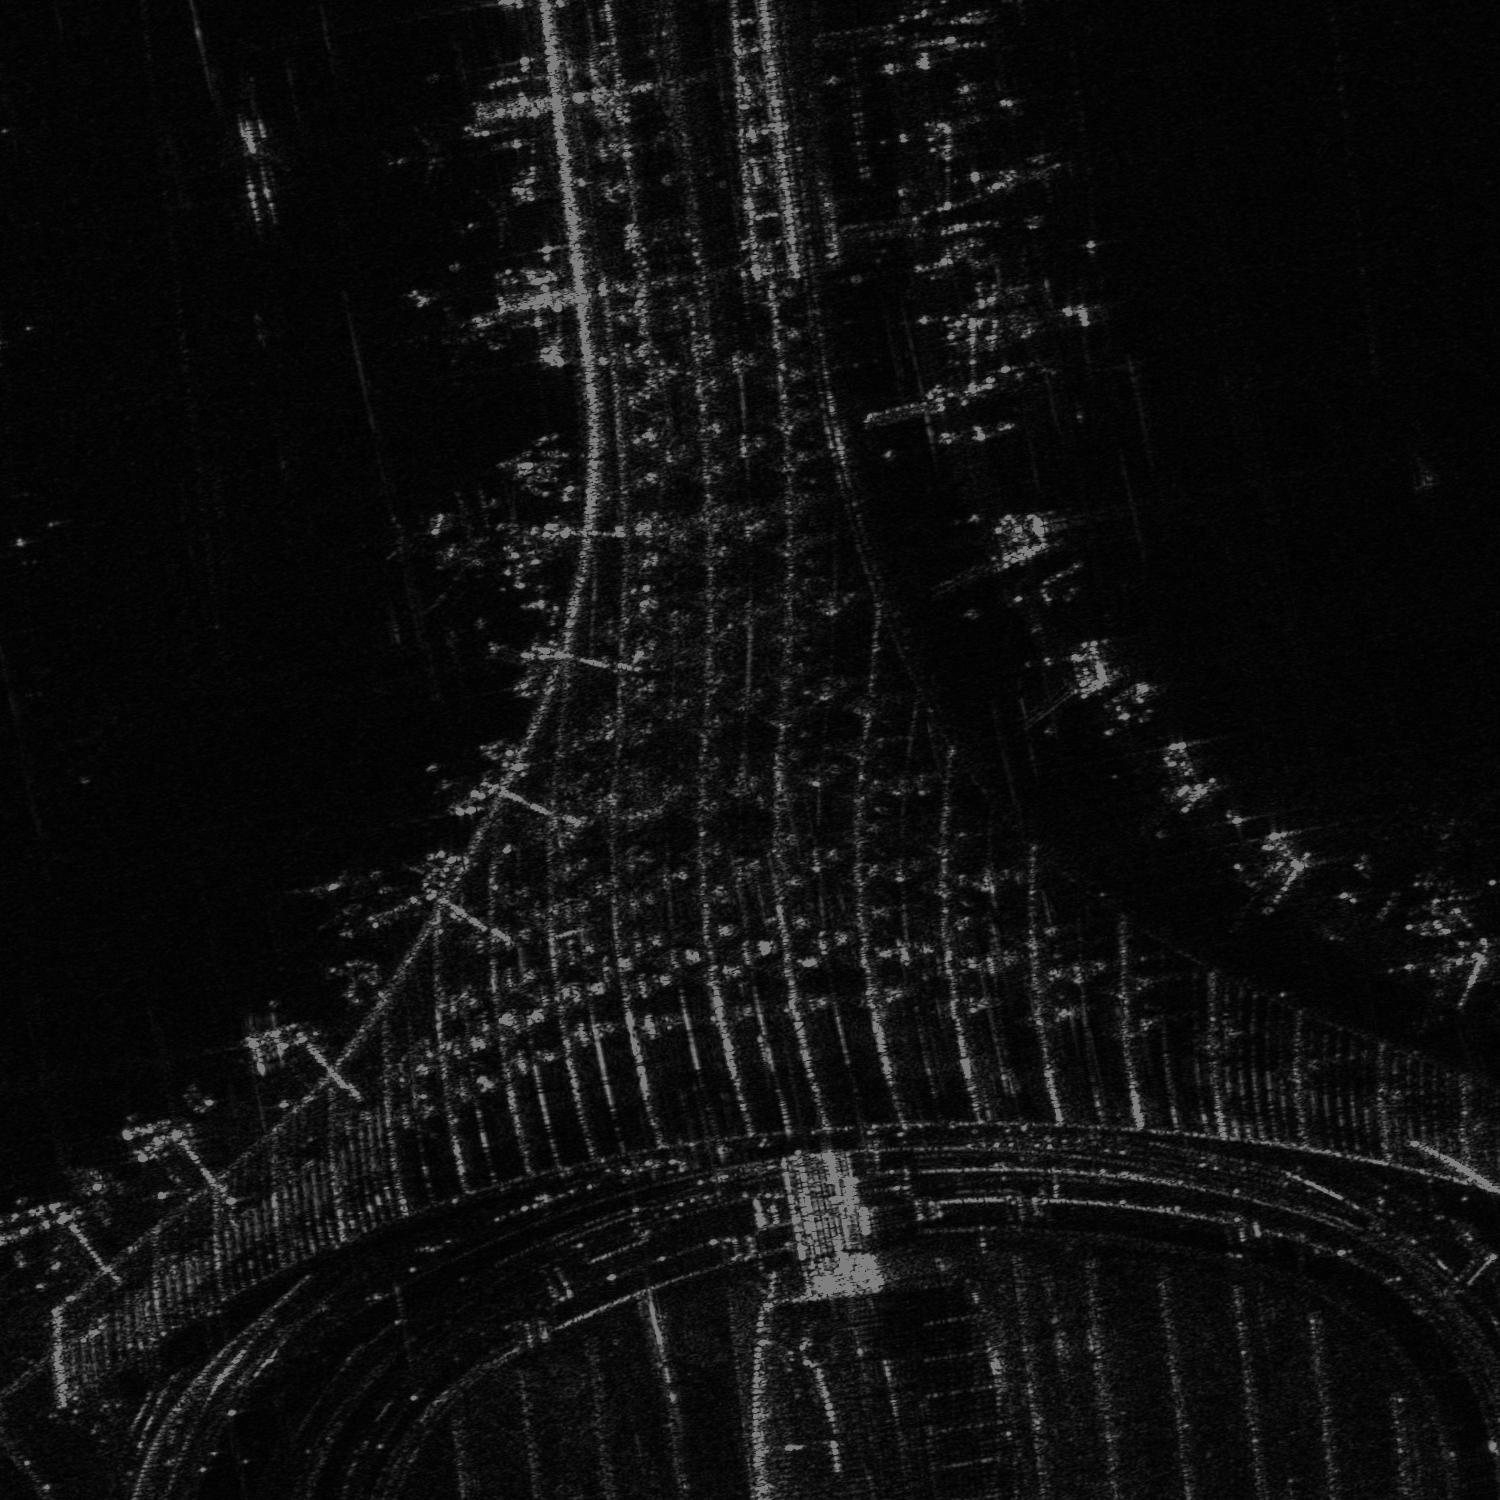A220: (306, 865, 359, 933)
Boeing787: (382, 482, 501, 614), (379, 120, 455, 194), (457, 185, 521, 249)
